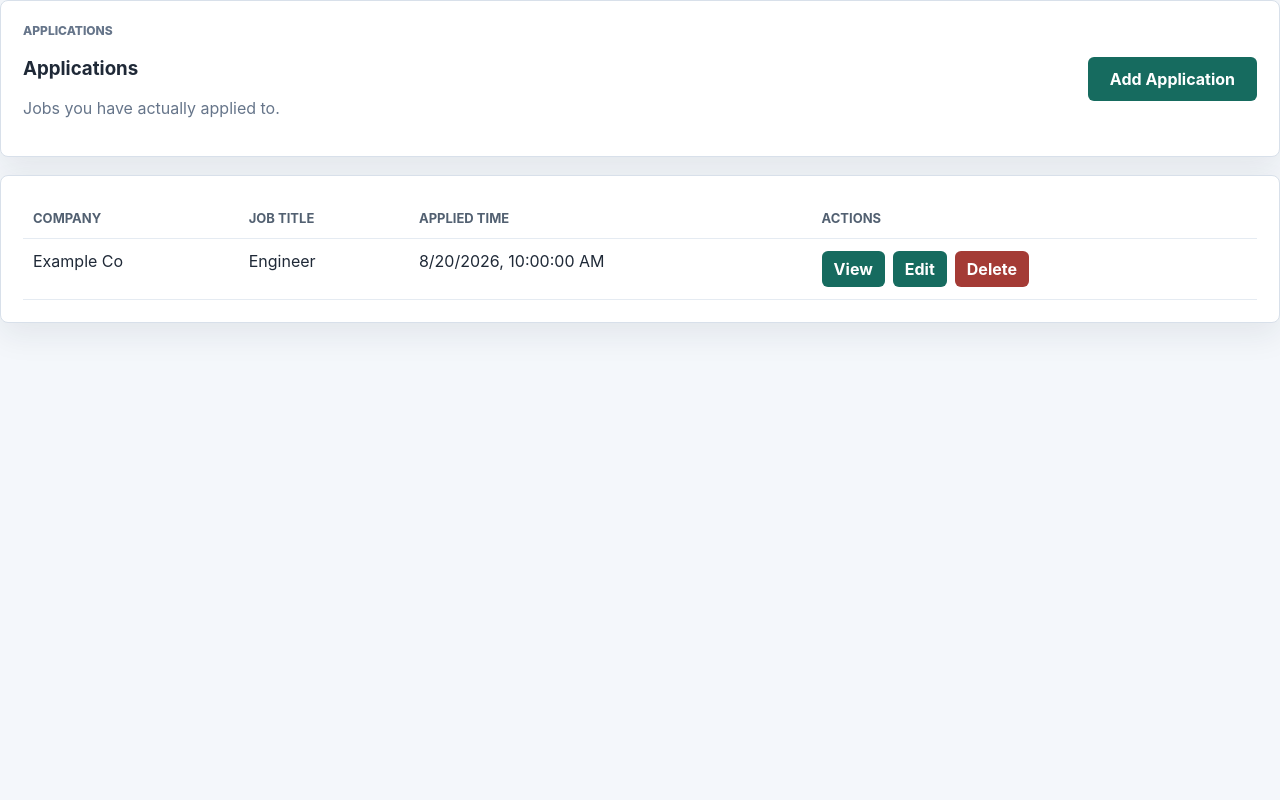
Scenario: Version 2.2.0 Applications › discards edits on Cancel without sending a request
Check: the text "Example Co" is shown, box top-left (23, 239), bottom-right (239, 300)
Click the button "Edit". click: (920, 269)
box: top-left (893, 251), bottom-right (947, 287)
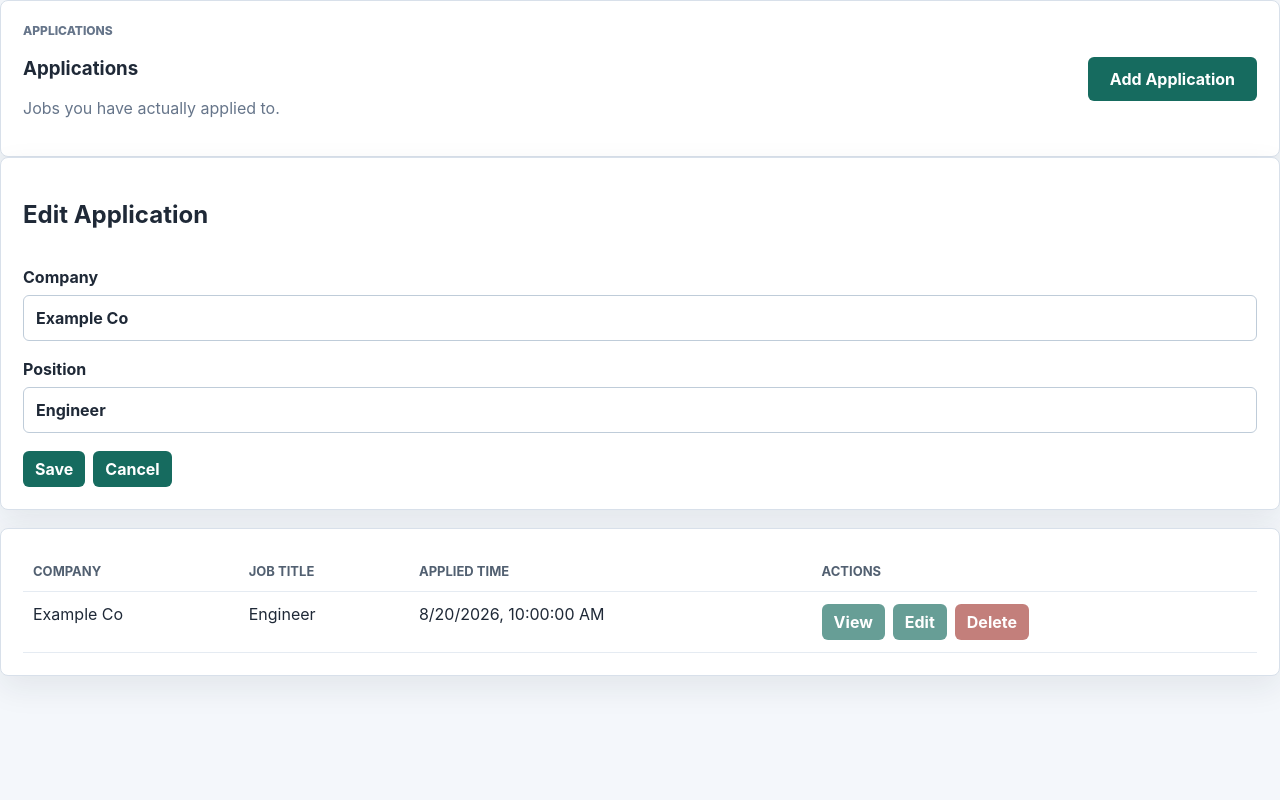
Replace the text in the field labelled "Company" with "Discard Co". click: (640, 318)
box: top-left (23, 295), bottom-right (1257, 341)
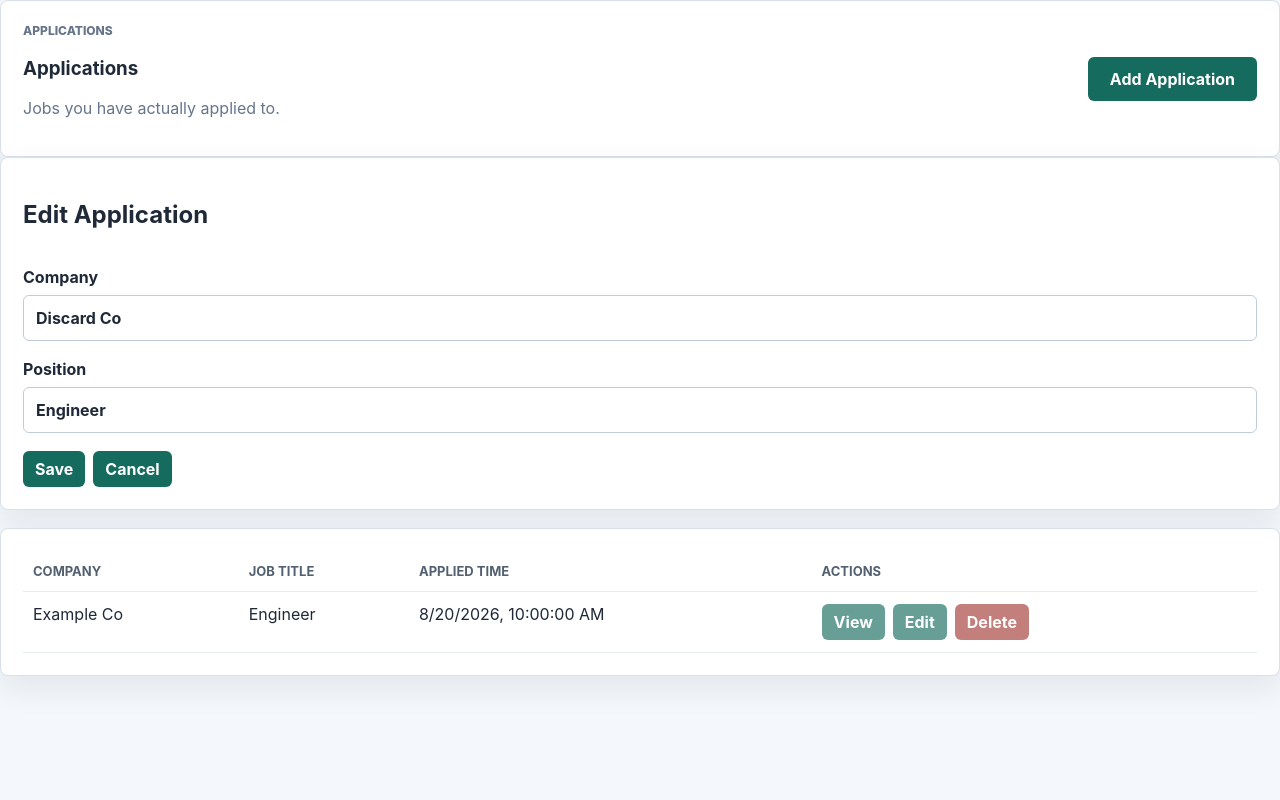
Replace the text in the field labelled "Position" with "Discard Role". click: (640, 410)
box: top-left (23, 387), bottom-right (1257, 433)
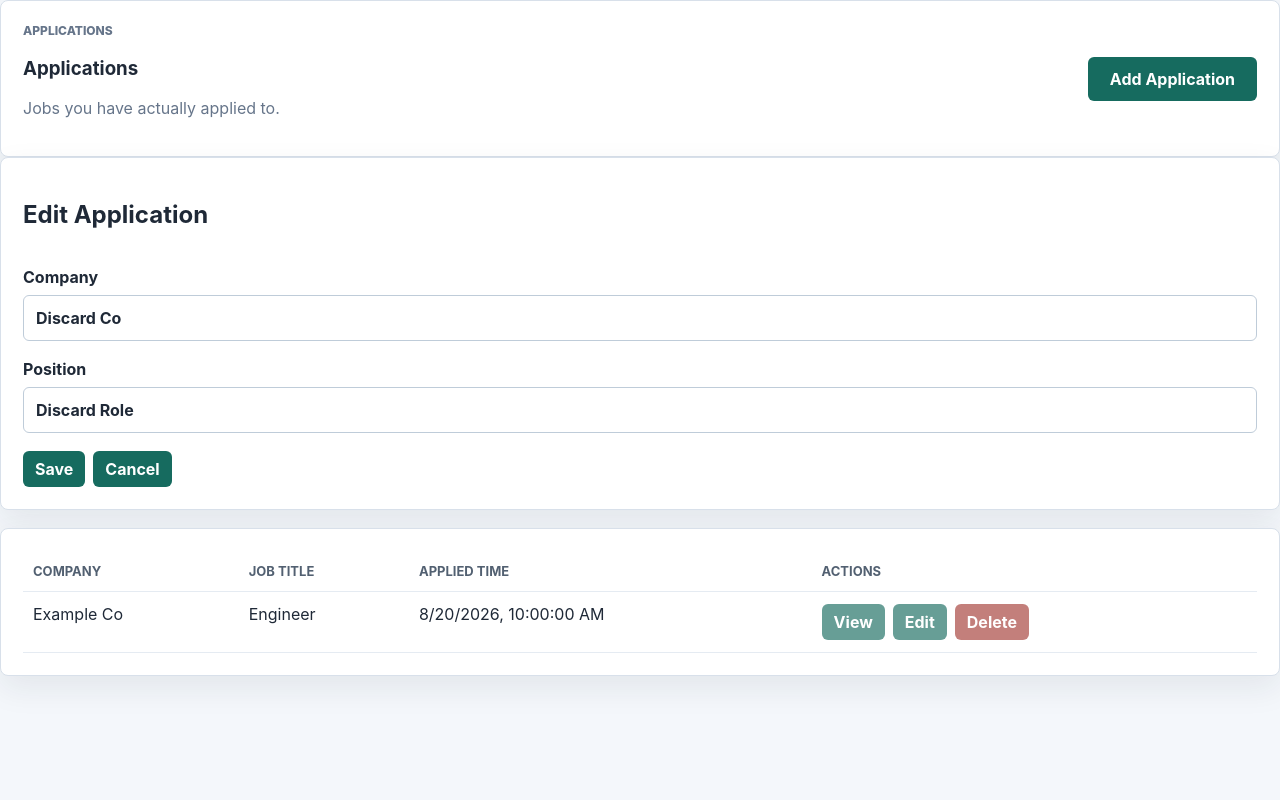
Click the button "Cancel". click: (132, 469)
box: top-left (93, 451), bottom-right (172, 487)
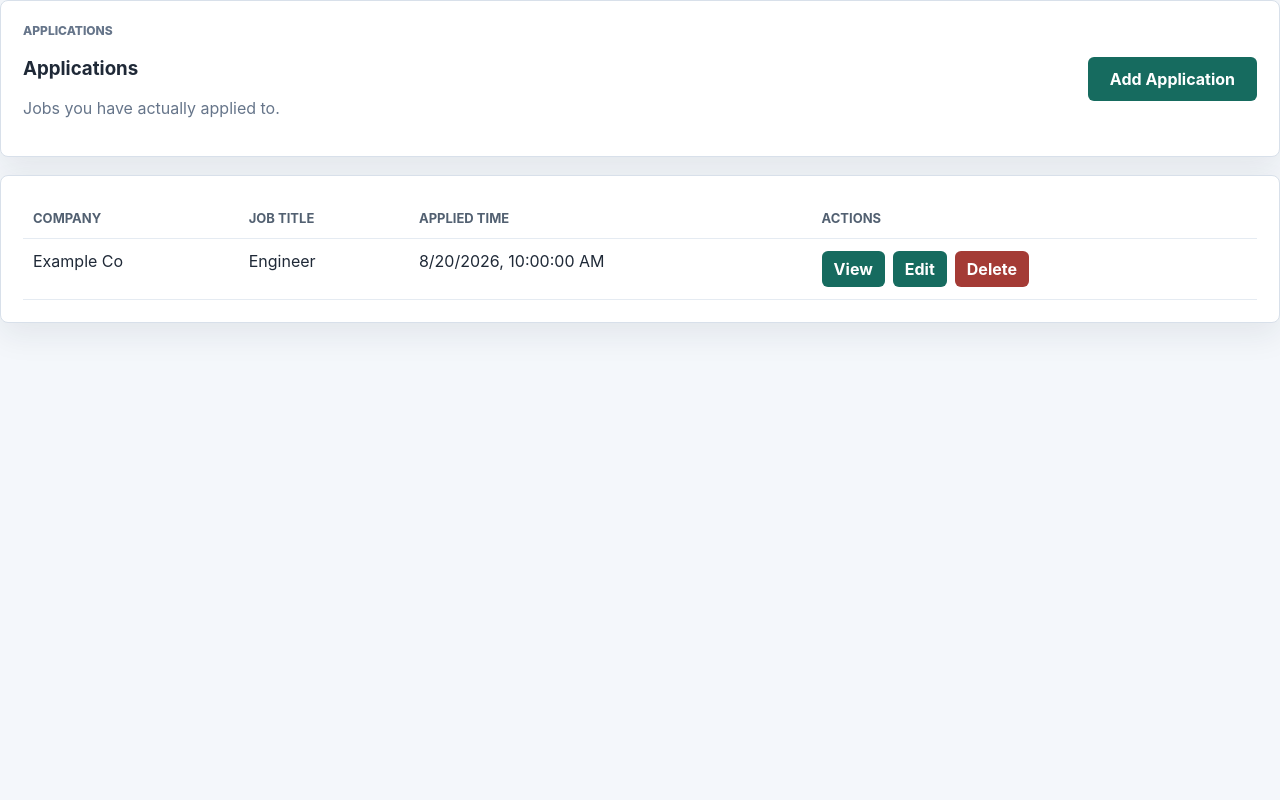
Check: the text "Example Co" is shown, box top-left (23, 239), bottom-right (239, 300)
Click the button "Edit". click: (920, 269)
box: top-left (893, 251), bottom-right (947, 287)
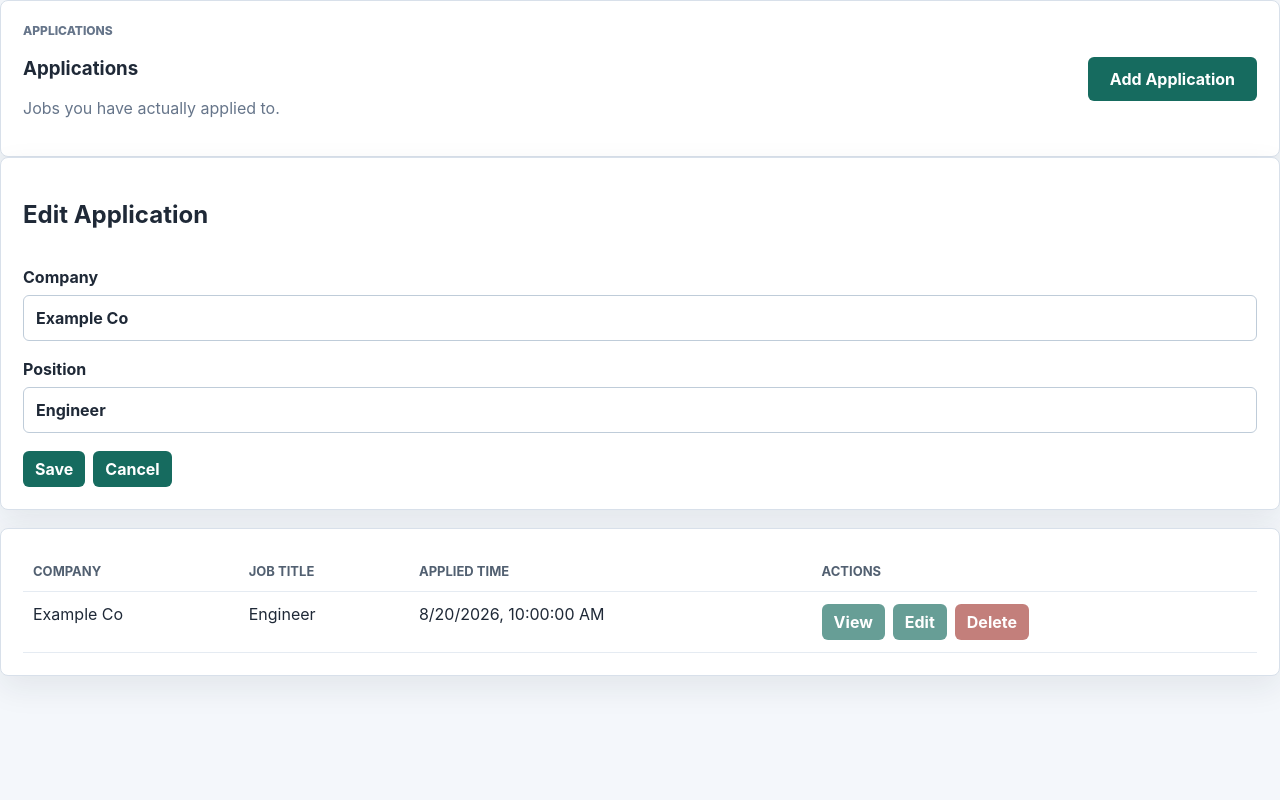
Check: the field labelled "Company" holds "Example Co", box top-left (23, 295), bottom-right (1257, 341)
Check: the field labelled "Position" holds "Engineer", box top-left (23, 387), bottom-right (1257, 433)
